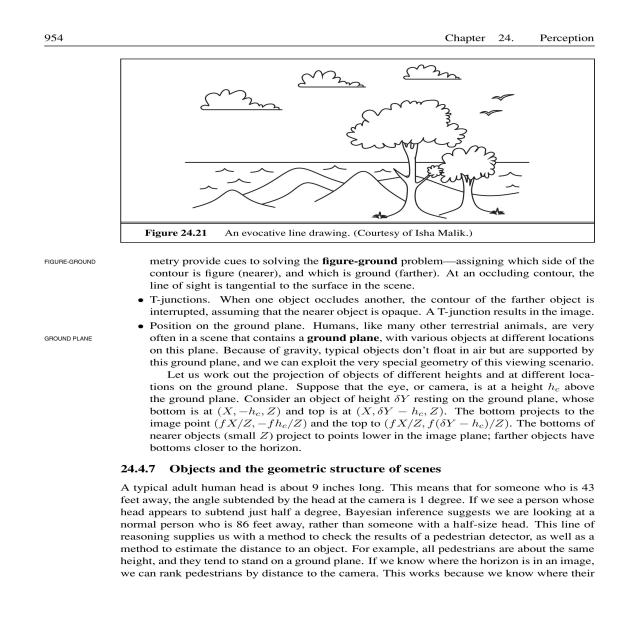diagram: (108, 51, 589, 250)
